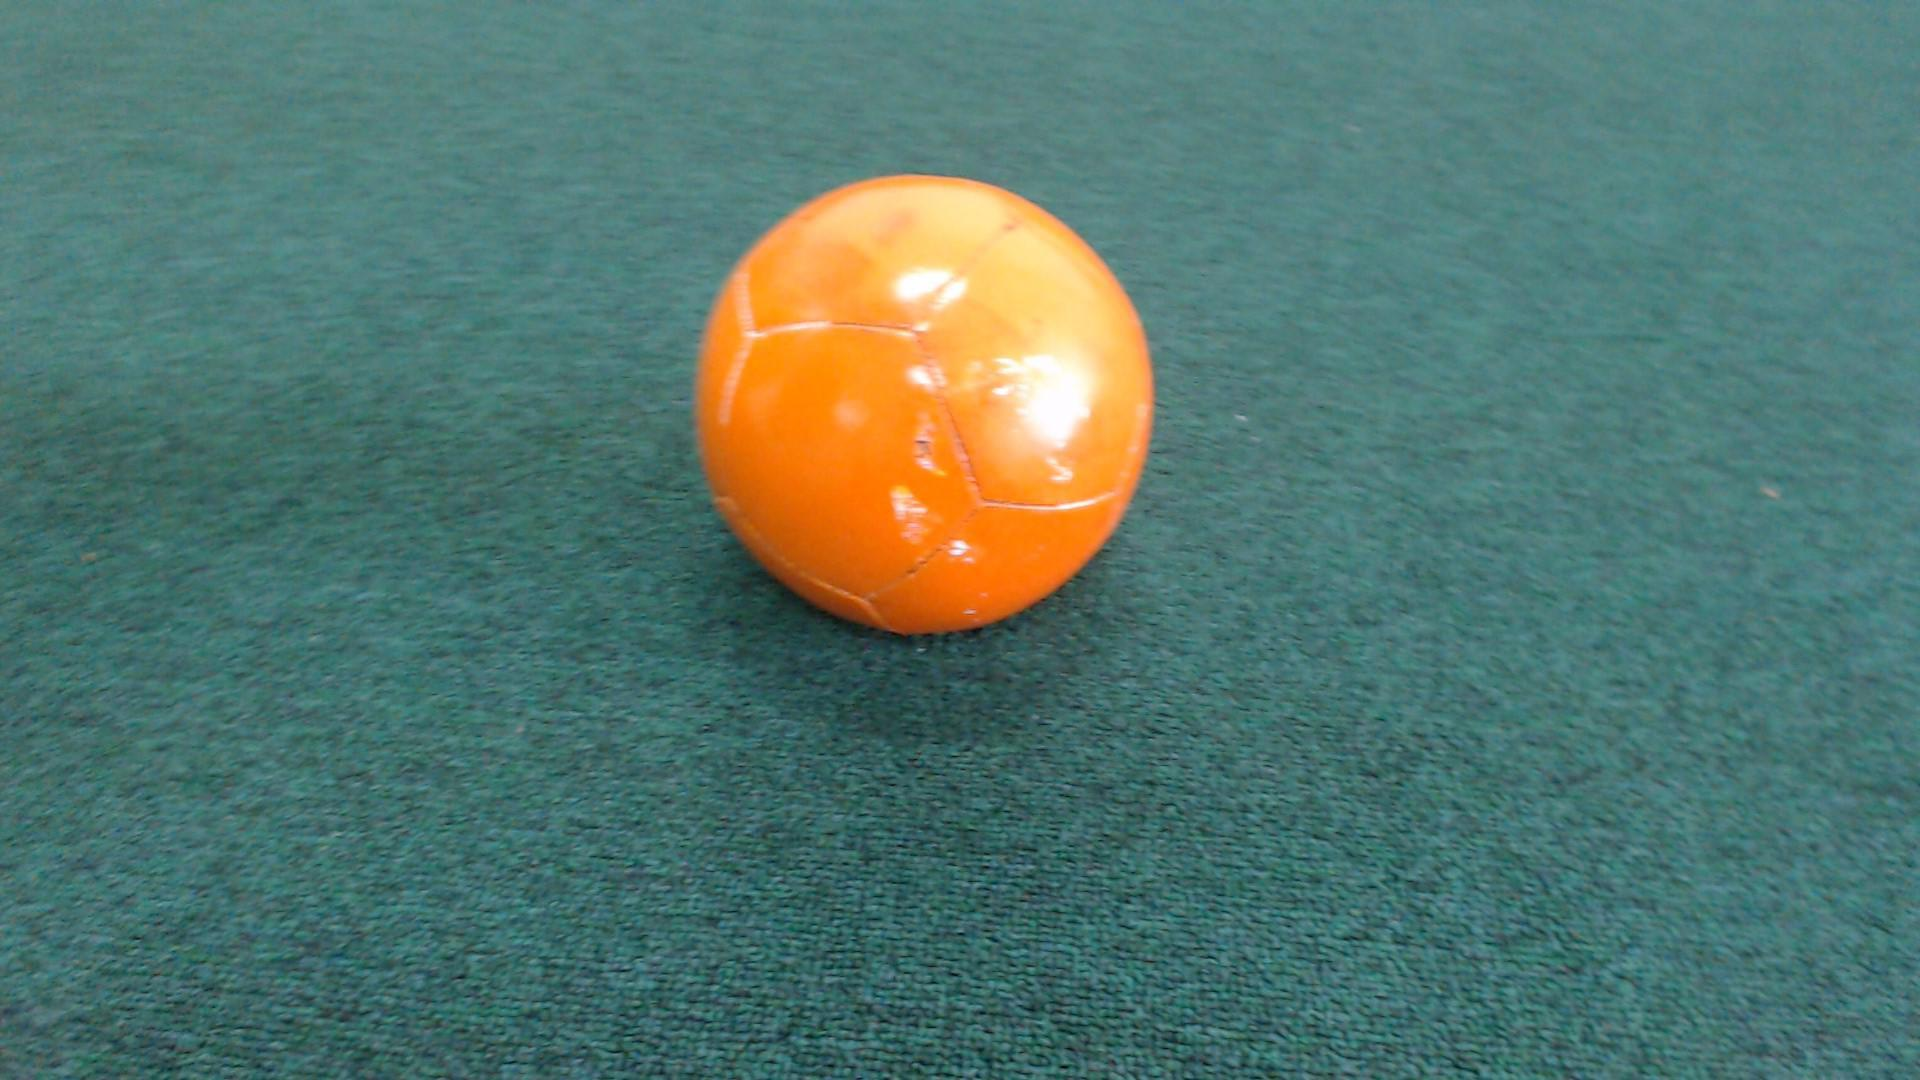bola: (638, 156, 1193, 688)
